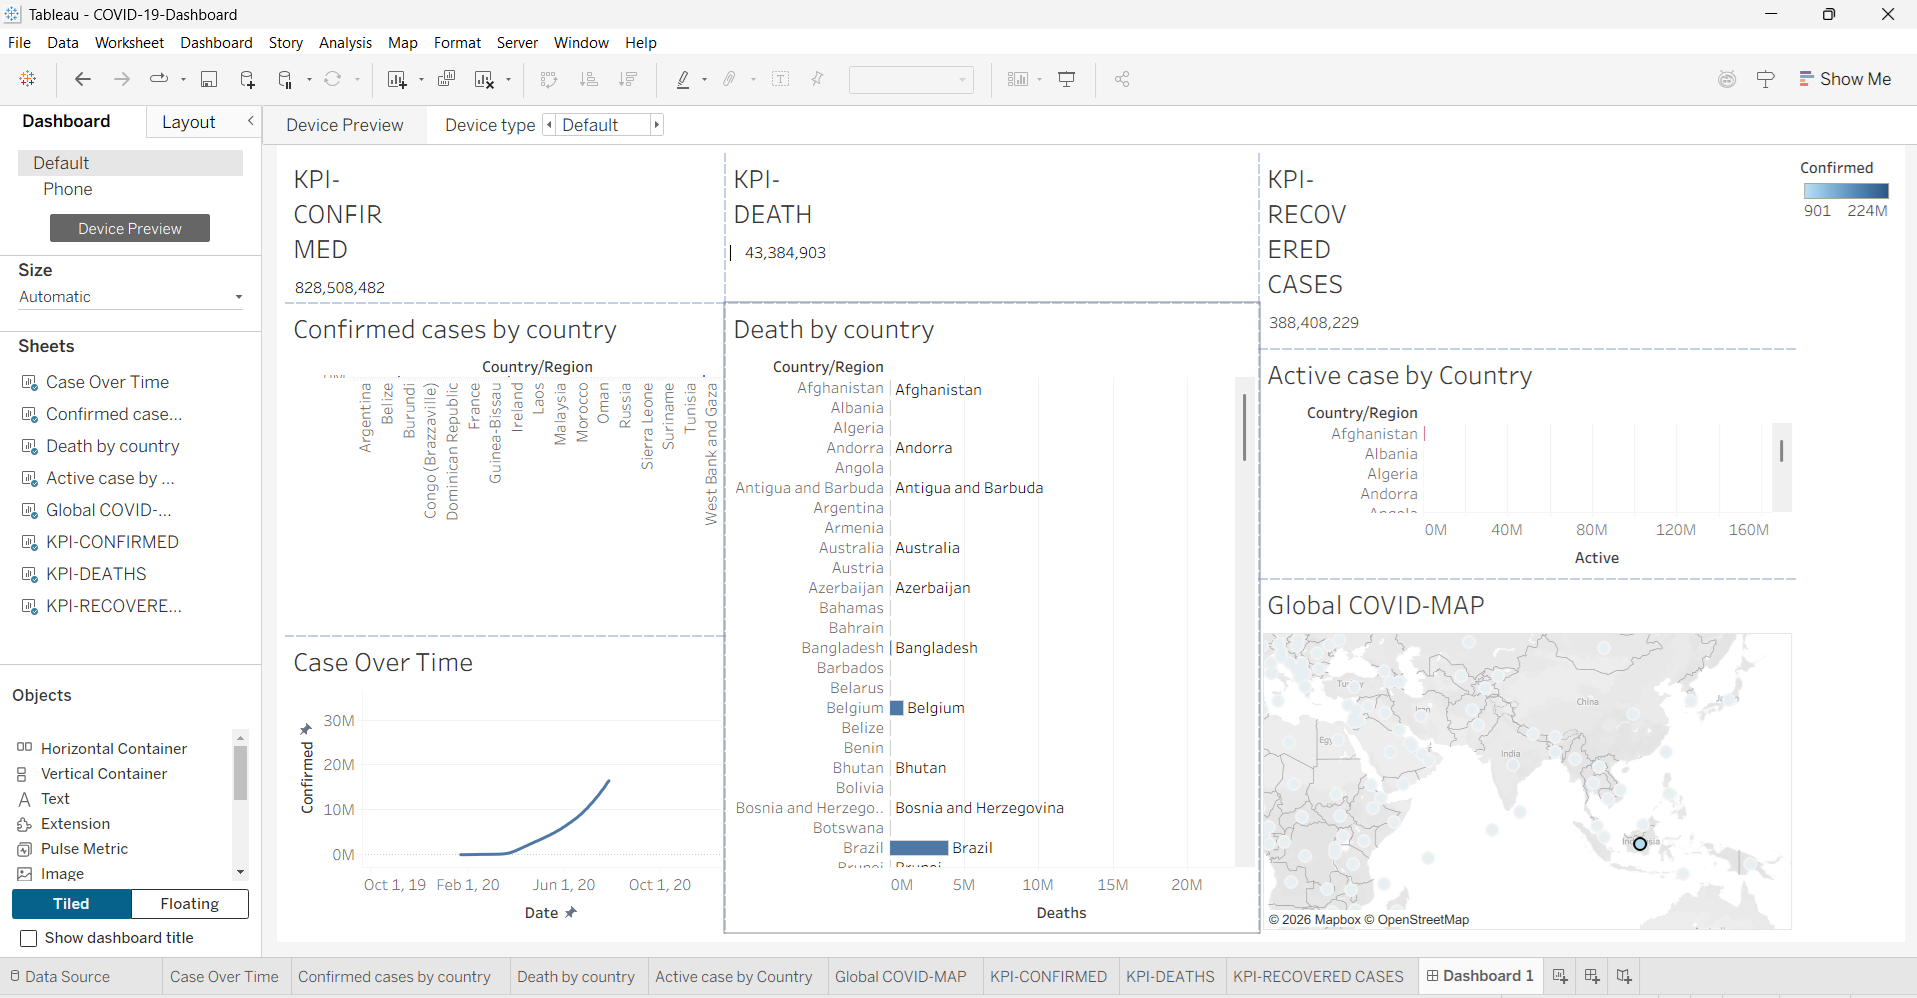

This screenshot's page, from the dashboard's own definition file:
{"tool":"tableau","page":{"name":"Dashboard 1","canvas":[1000,1000],"units":"permille","ordinal":0},"visuals":[{"type":"worksheet","title":"KPI-CONFIRMED","mark":"Automatic","box":[4.9,10,270.5,188.2]},{"type":"worksheet","title":"KPI-DEATHS","mark":"Bar","box":[275.4,10,327.7,188.2]},{"type":"worksheet","title":"KPI-RECOVERED CASES","mark":"Automatic","box":[603.2,10,329.9,245.9]},{"type":"legend","title":"Global COVID-MAP ","param":"[federated.1qzfrad1xz1gj811gt9zz1p7hib0].[sum:Confirmed:qk]","box":[933.1,10,62,91.6]},{"type":"worksheet","title":"Confirmed cases by country ","mark":"Bar","rows":["Confirmed"],"cols":["Country/Region"],"box":[4.9,198.2,270.5,417.9]},{"type":"worksheet","title":"Death by country","mark":"Bar","rows":["Country/Region"],"cols":["Deaths"],"box":[275.4,198.2,327.7,791.8]},{"type":"worksheet","title":"Active case by Country","mark":"Bar","rows":["Country/Region"],"cols":["Active"],"box":[603.2,255.9,329.9,288.6]},{"type":"worksheet","title":"Global COVID-MAP ","mark":"Circle","rows":["Lat"],"cols":["Long"],"box":[603.2,544.5,329.9,445.5]},{"type":"worksheet","title":"Case Over Time","mark":"Line","rows":["Confirmed"],"cols":["Date"],"box":[4.9,616.1,270.5,373.9]}]}

Visuals, with their boxes on the dashboard's canvas, which has no fixed pixel size, in thousandths of its width and height (x1, y1, x2, y2). These are canvas units, not pixel positions in the 1917x998 screenshot, which may show the page scaled, cropped or inside an application window:
"KPI-CONFIRMED" worksheet: <bbox>5, 10, 275, 198</bbox>
"KPI-DEATHS" worksheet (Bar marks): <bbox>275, 10, 603, 198</bbox>
"KPI-RECOVERED CASES" worksheet: <bbox>603, 10, 933, 256</bbox>
"Global COVID-MAP " legend: <bbox>933, 10, 995, 102</bbox>
"Confirmed cases by country " worksheet (Bar marks): <bbox>5, 198, 275, 616</bbox>
"Death by country" worksheet (Bar marks): <bbox>275, 198, 603, 990</bbox>
"Active case by Country" worksheet (Bar marks): <bbox>603, 256, 933, 544</bbox>
"Global COVID-MAP " worksheet (Circle marks): <bbox>603, 544, 933, 990</bbox>
"Case Over Time" worksheet (Line marks): <bbox>5, 616, 275, 990</bbox>
